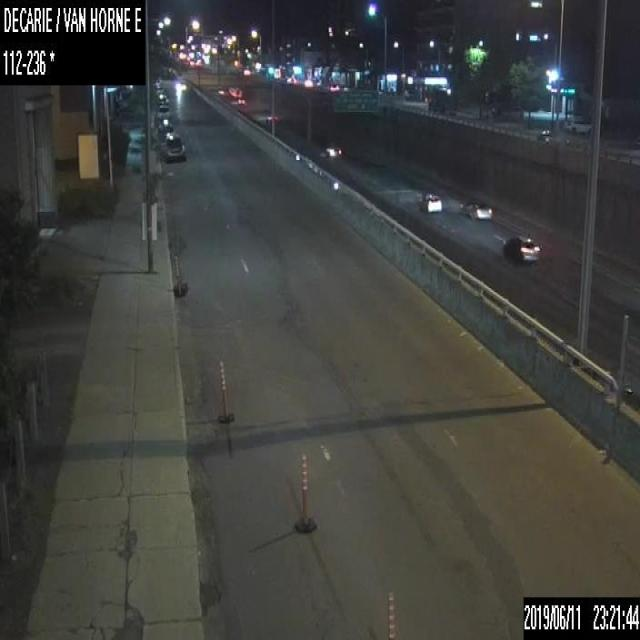construction: (293, 452, 316, 532), (216, 360, 234, 421), (385, 590, 397, 638), (173, 255, 186, 296)
vehicle: (502, 233, 540, 263), (161, 132, 185, 162), (458, 201, 494, 220), (564, 114, 592, 132), (417, 190, 442, 210), (318, 144, 342, 158), (501, 105, 523, 118), (157, 116, 173, 132), (156, 104, 170, 118), (228, 85, 240, 96), (156, 93, 166, 104), (266, 116, 276, 125), (329, 83, 339, 91), (304, 78, 312, 85), (237, 97, 244, 104)
